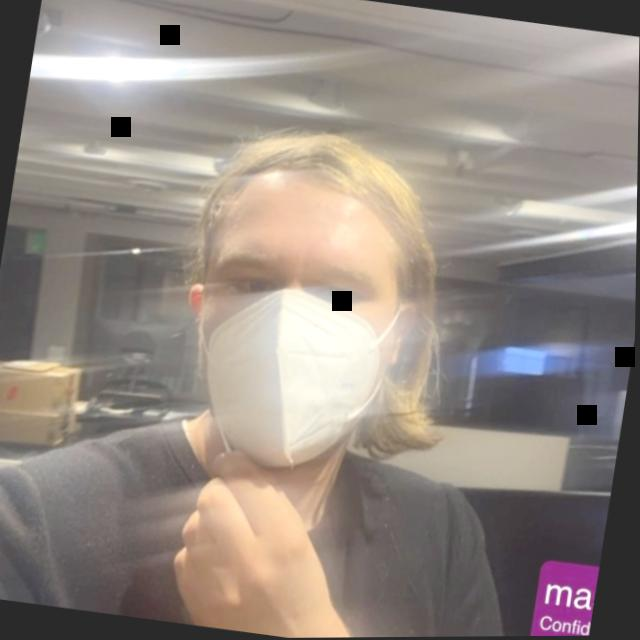Mask: (147, 90, 480, 489)
